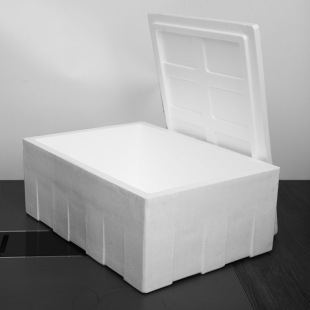Boxes: (24, 16, 279, 292)
